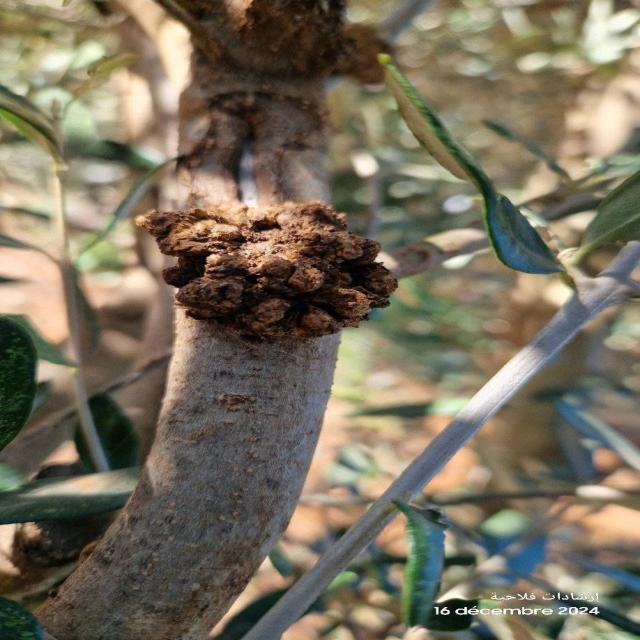Tuberculosis: (136, 202, 442, 342)
